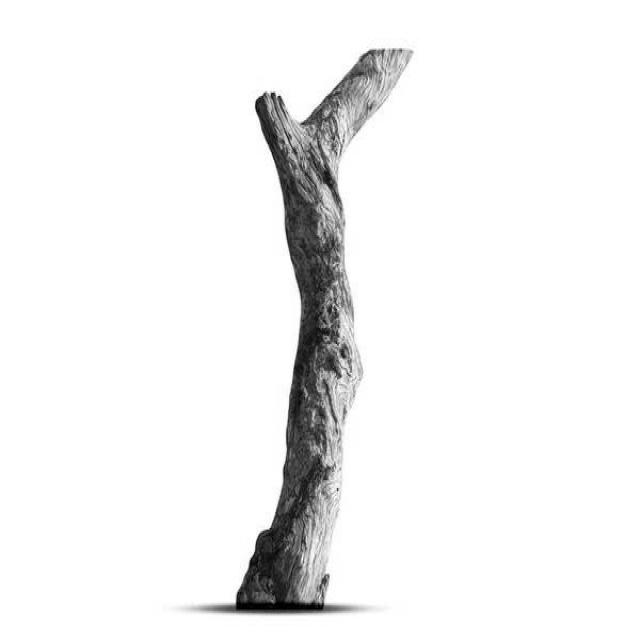Tree: (237, 48, 413, 610)
